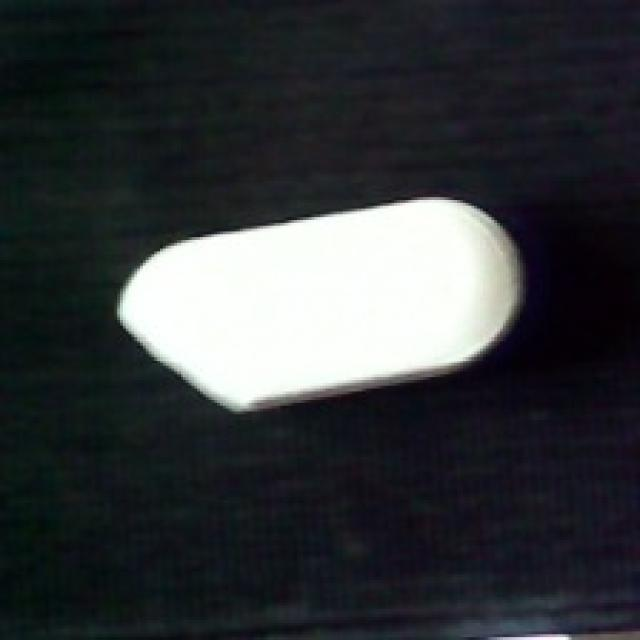defected: (109, 195, 528, 418)
